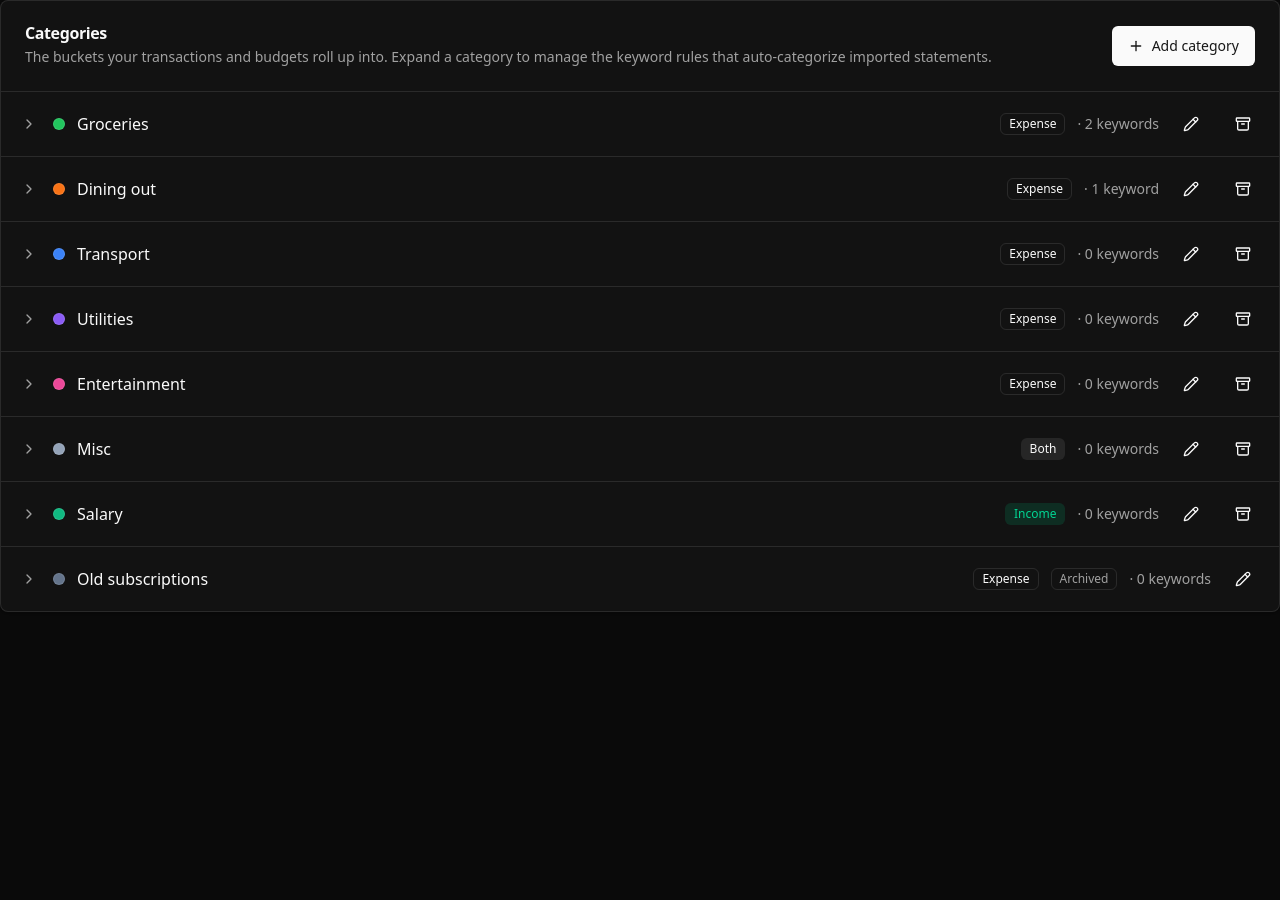
CategoriesManager › creates a category and shows a success toast
Click the button with test id "add-category-button" at (1183, 46), box [1112, 26, 1255, 66]
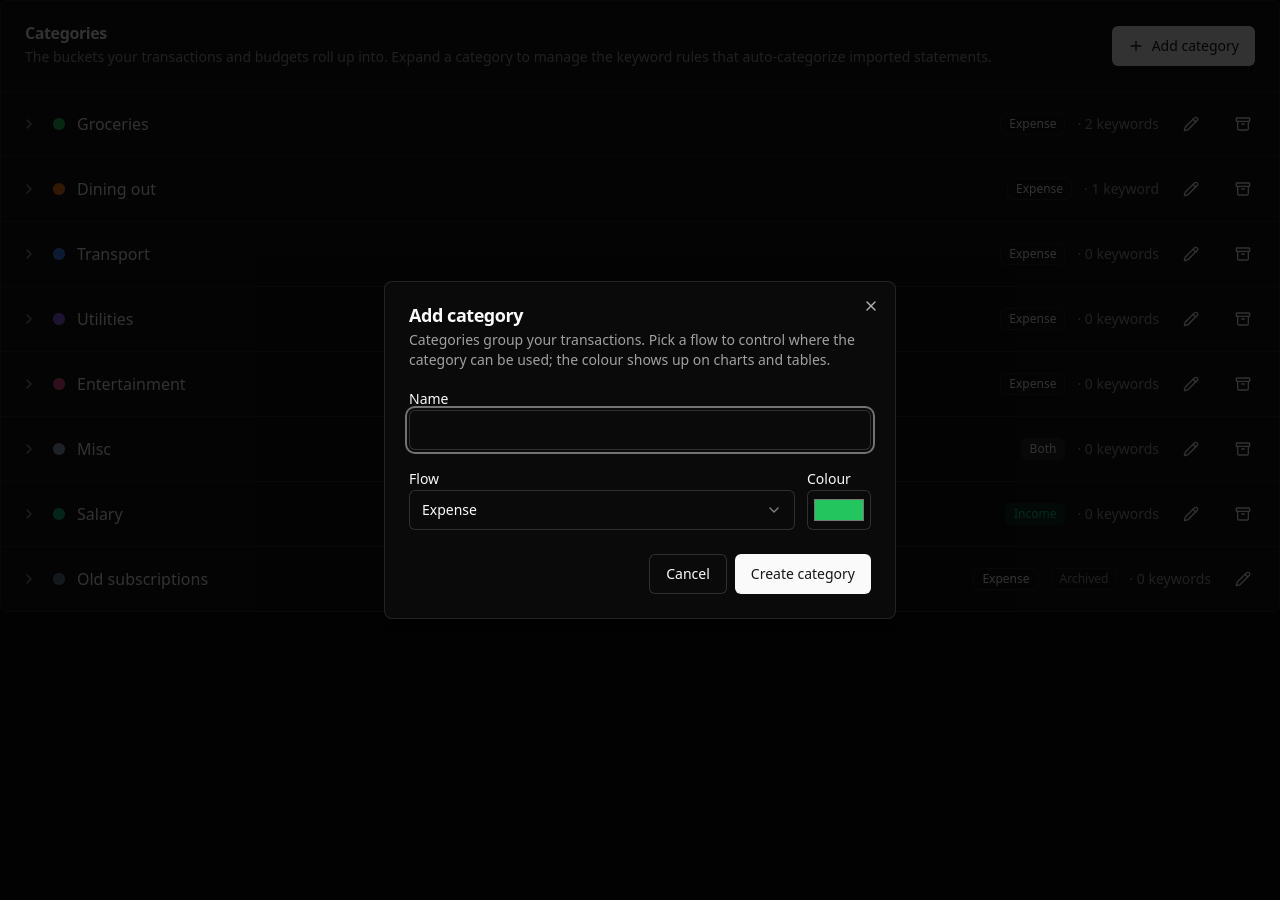
Result: the field with test id "category-name-input" is shown
Type "Pets" into the field with test id "category-name-input" at (640, 430), box [409, 410, 871, 450]
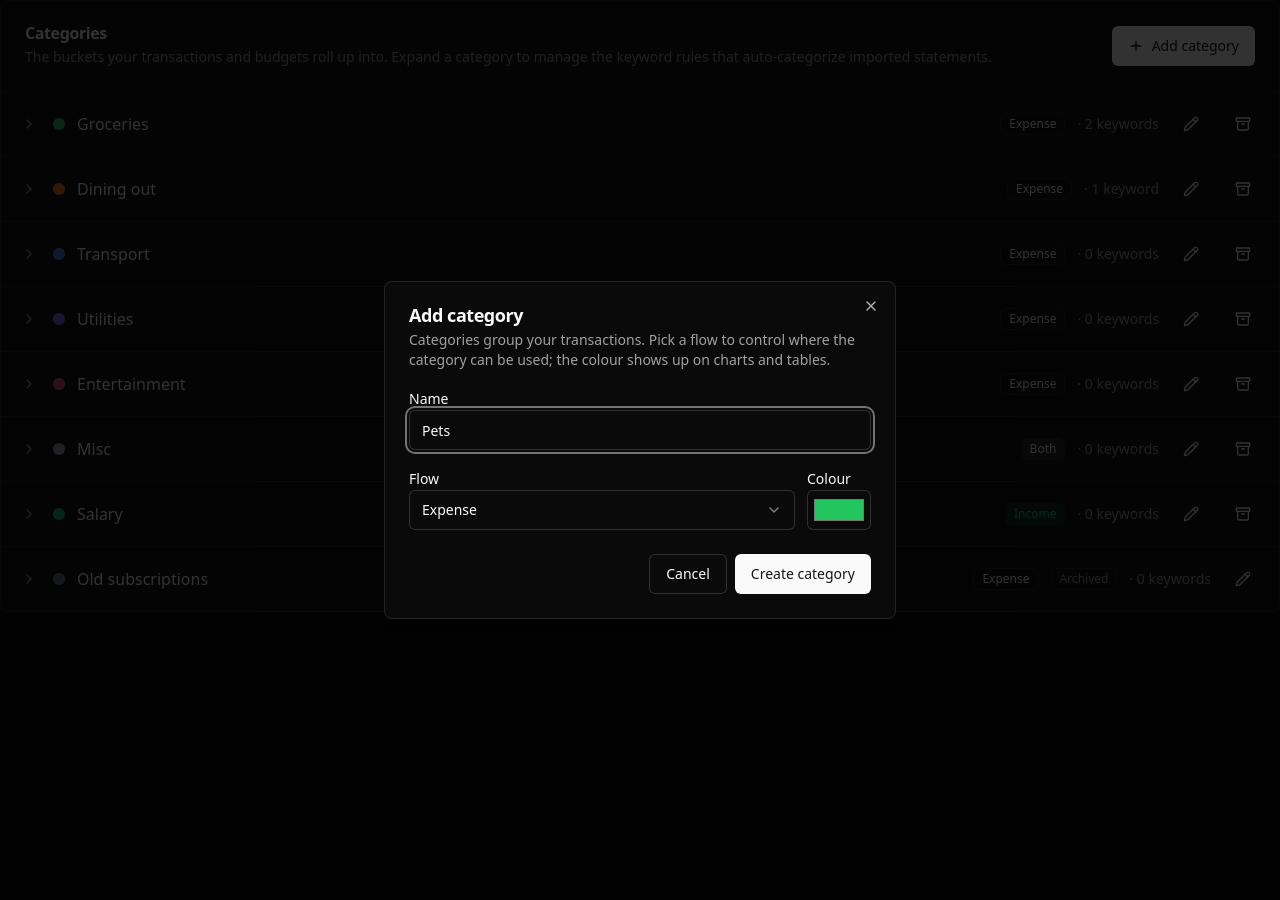
Click the button with test id "category-submit-button" at (803, 574), box [735, 554, 871, 594]
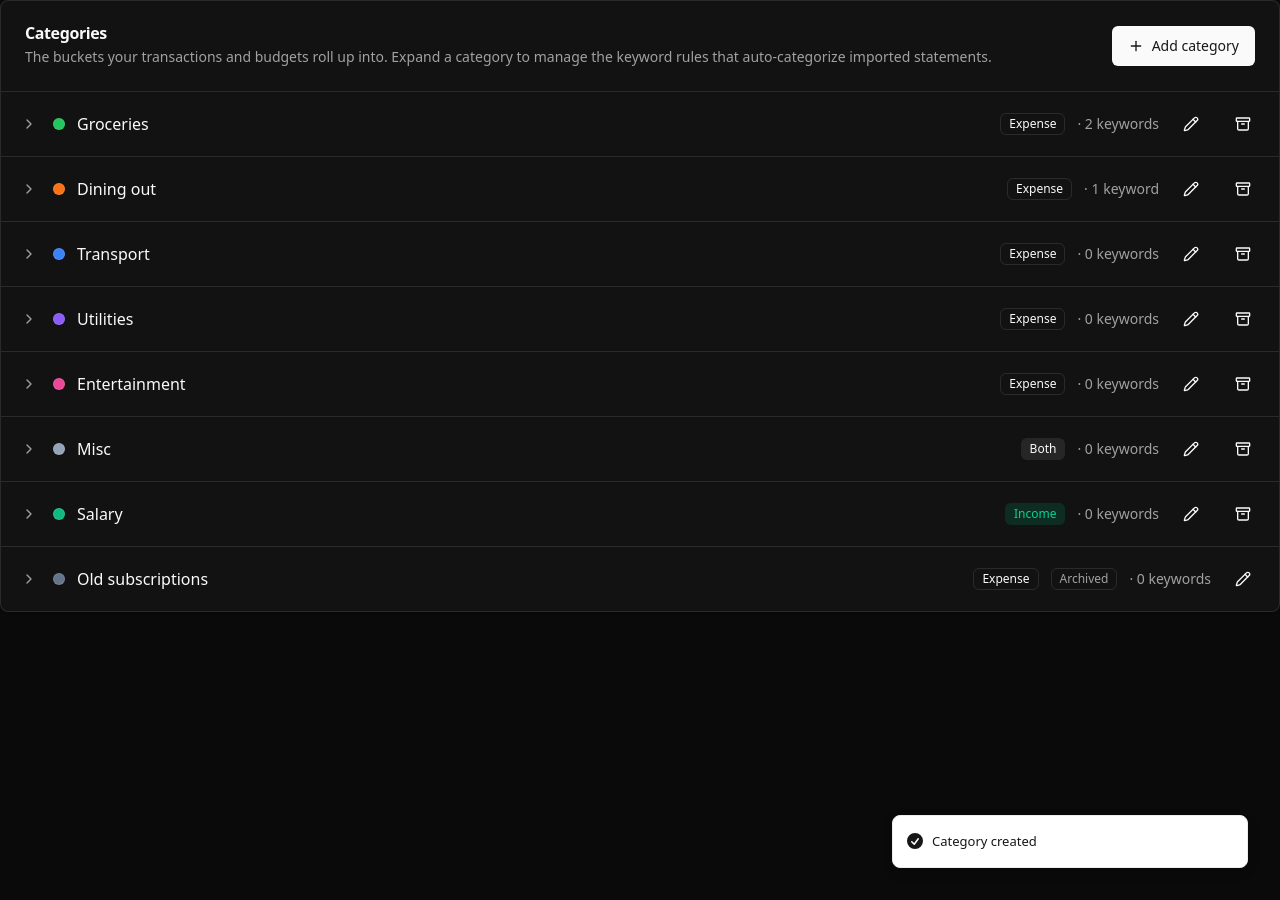
Result: the text "Category created" is shown at [932, 832, 1037, 851]
